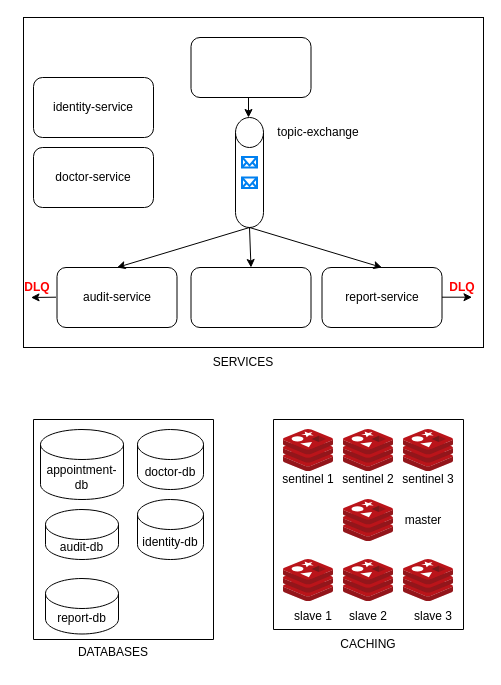
The diagram is 501 pixels wide and 685 high, and some of its shapes have lost their labels. The shapes that lost their labels are listed below. From the top down, each one's centre as x and y in pixels, then its label:
(250,67): appointment-service
(250,297): notification-service
